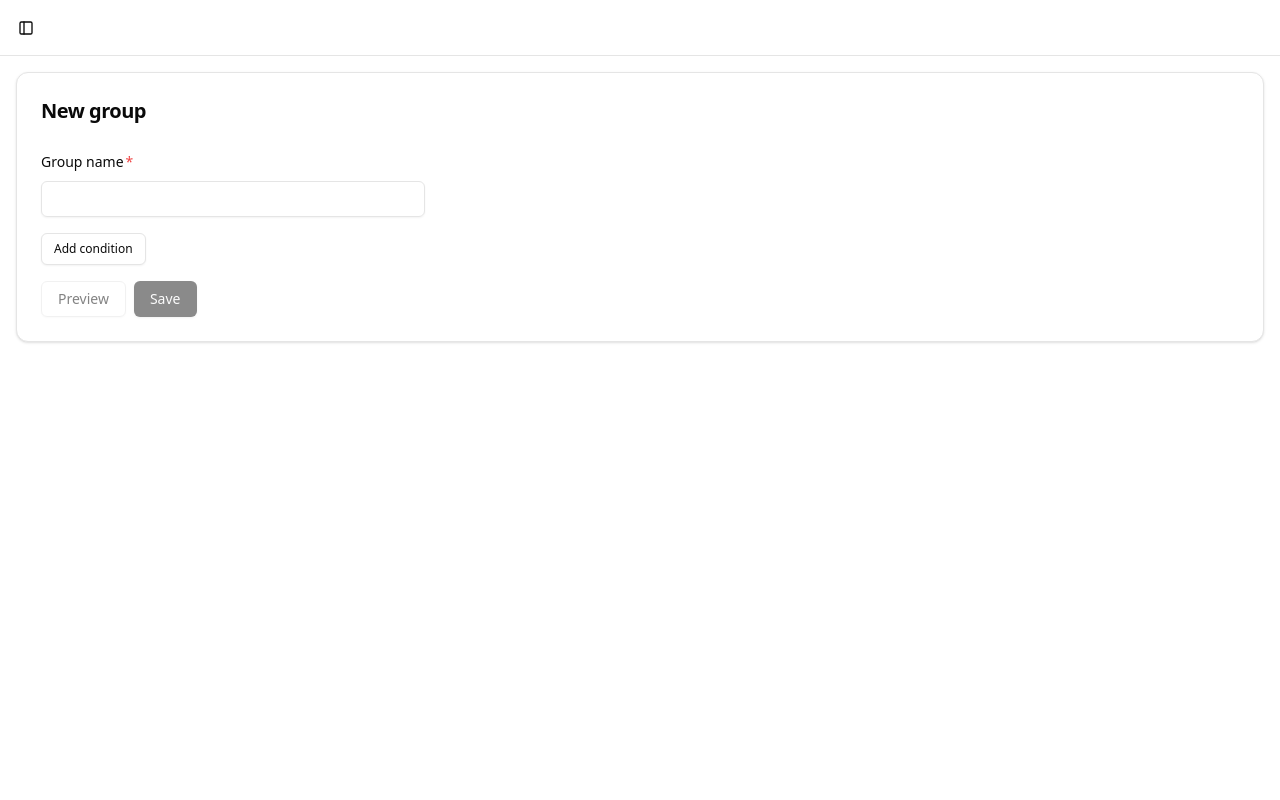
GroupEditorPage › shows a working View menu on the live preview
The image size is (1280, 800).
Click the button "Add condition": (93, 249) [41, 233, 146, 265]
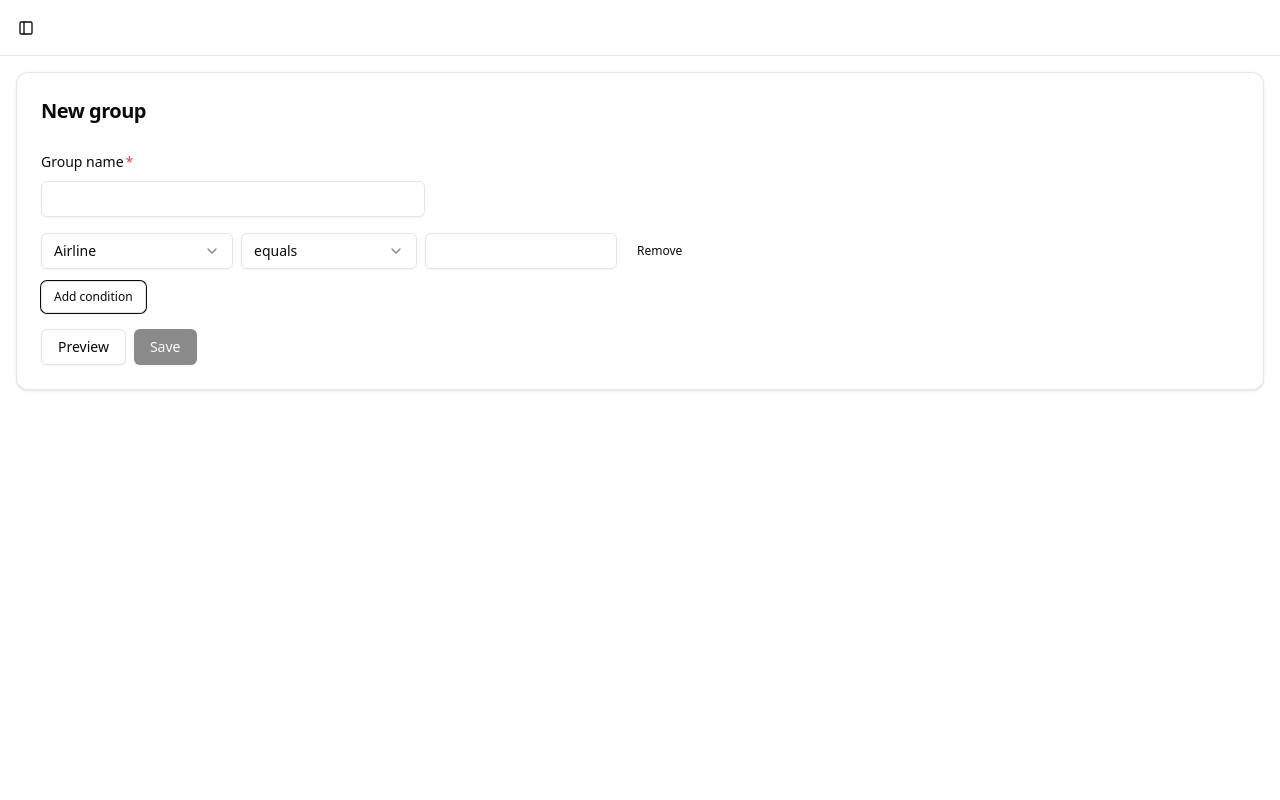
In the field named "Condition 1 value": (521, 251) [425, 233, 617, 269], type "QR"
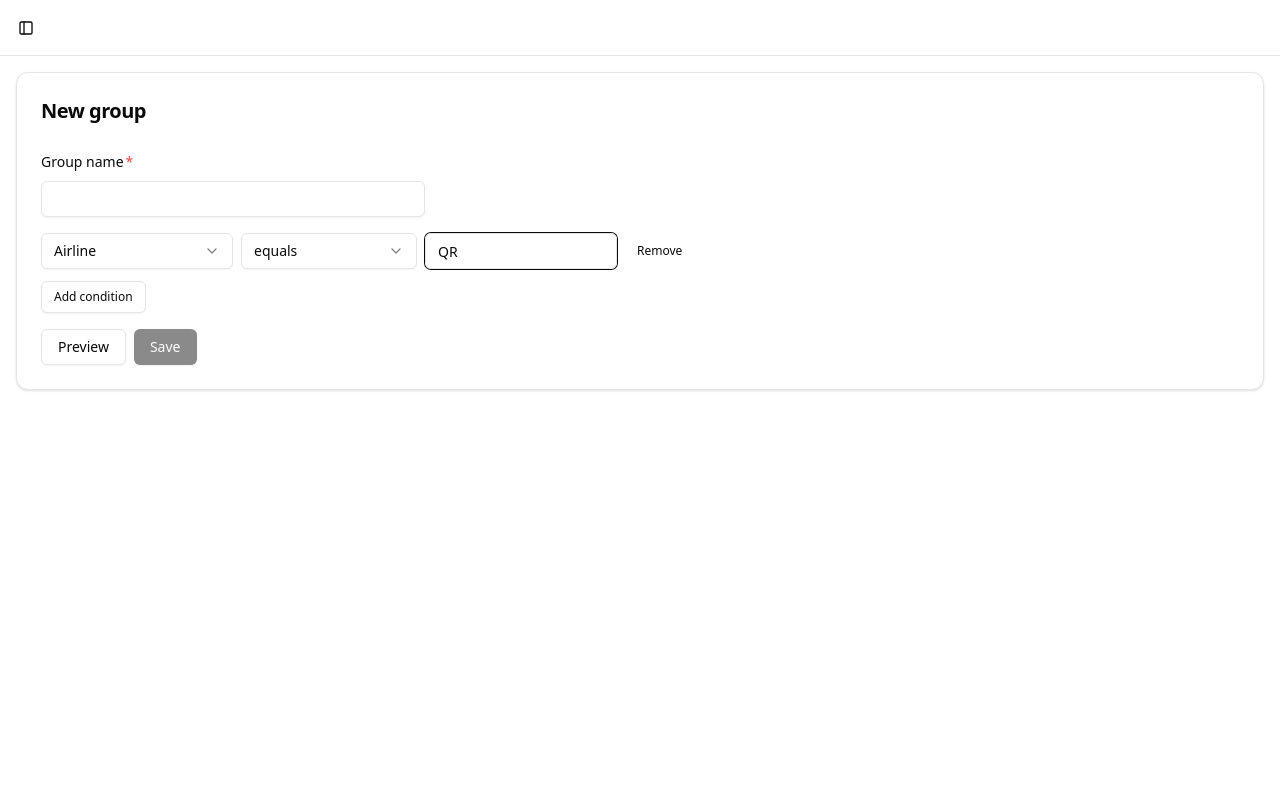
Click the button "Preview": (83, 347) [41, 329, 126, 365]
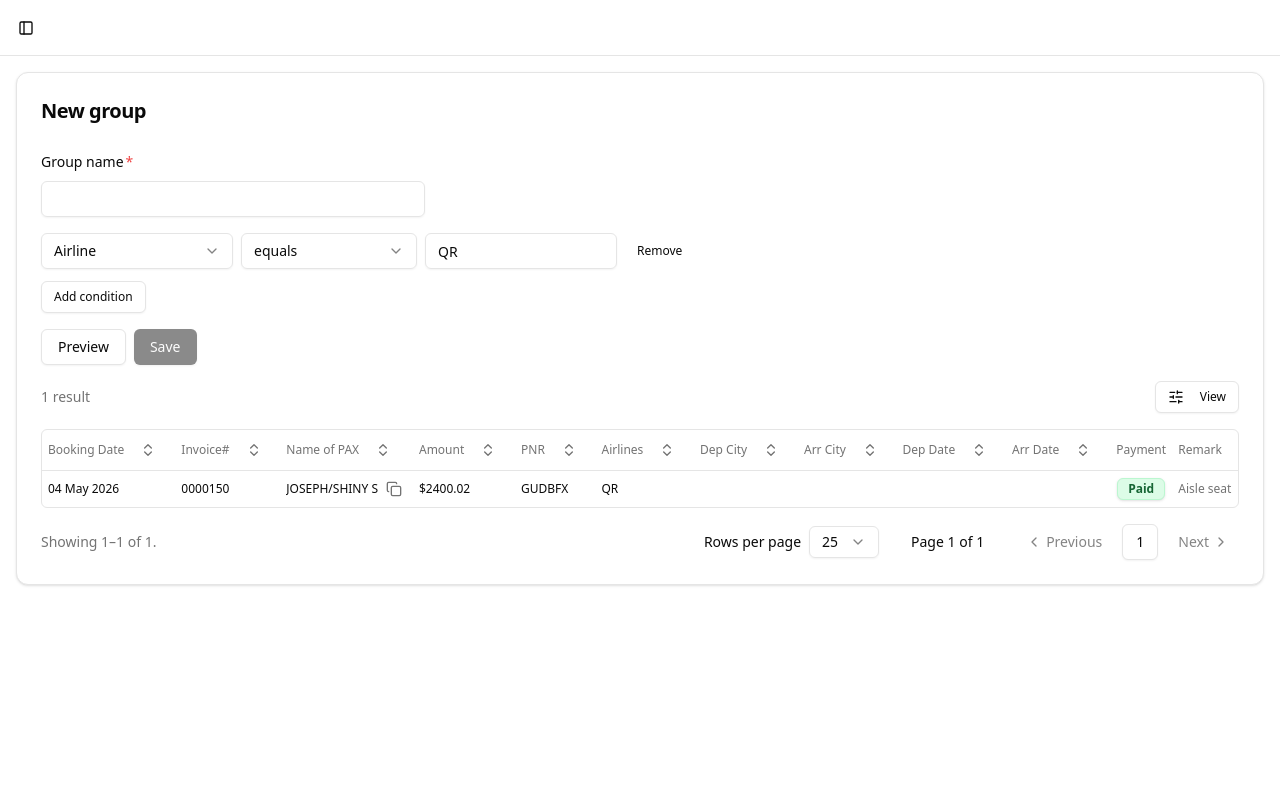
Check: the text "Aisle seat" is shown, box [1178, 480, 1232, 496]
Click the button "View": (1197, 397) [1155, 381, 1239, 413]
(page scrolled)
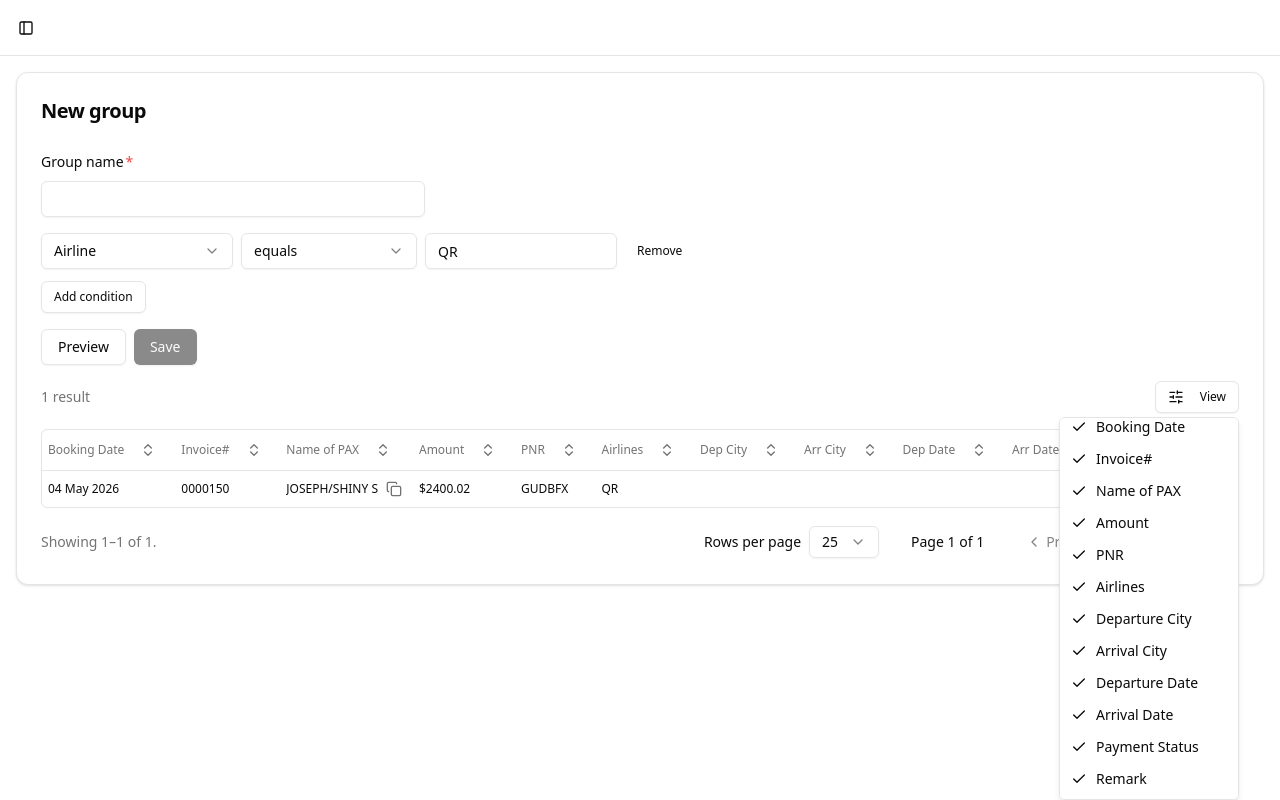
Click the menu item "Remark": (1109, 778) [1071, 769, 1147, 788]
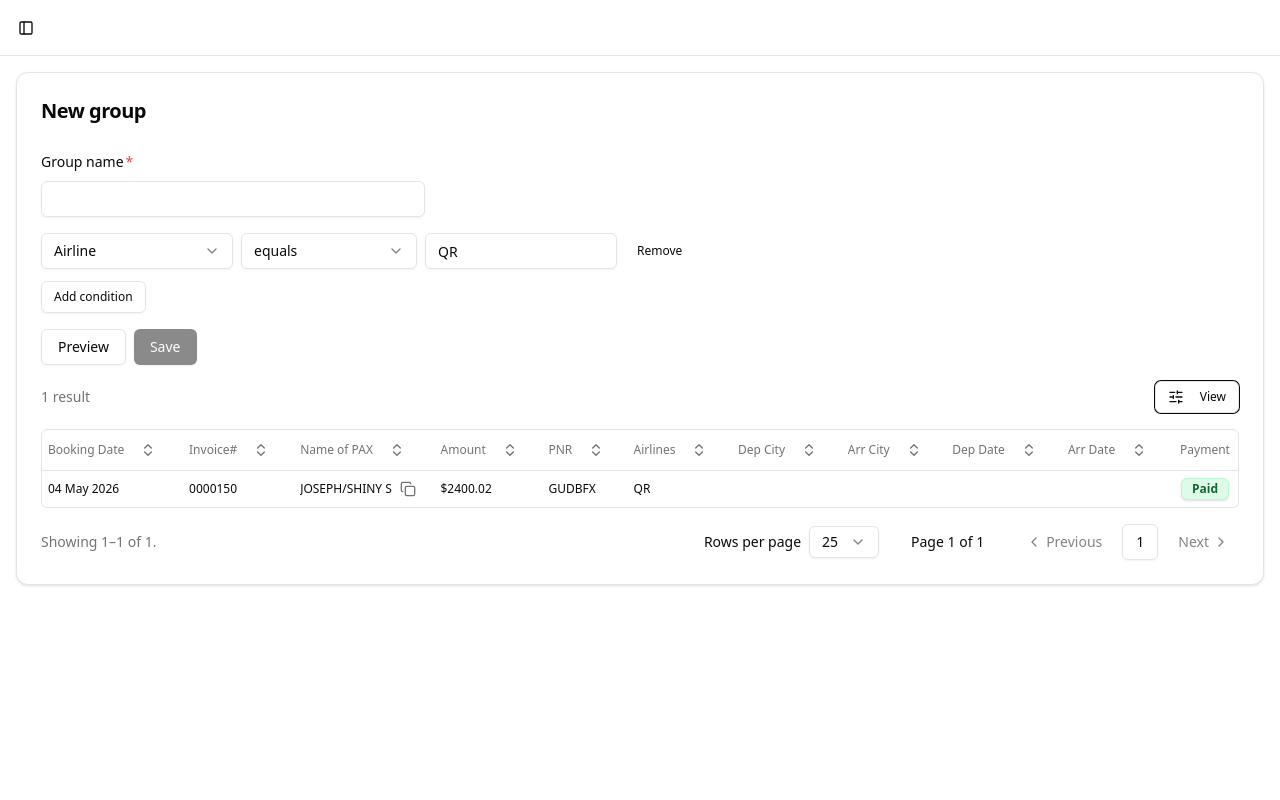
Check: the text "Aisle seat" is gone
